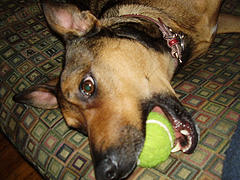tennis ball: (124, 108, 177, 170)
